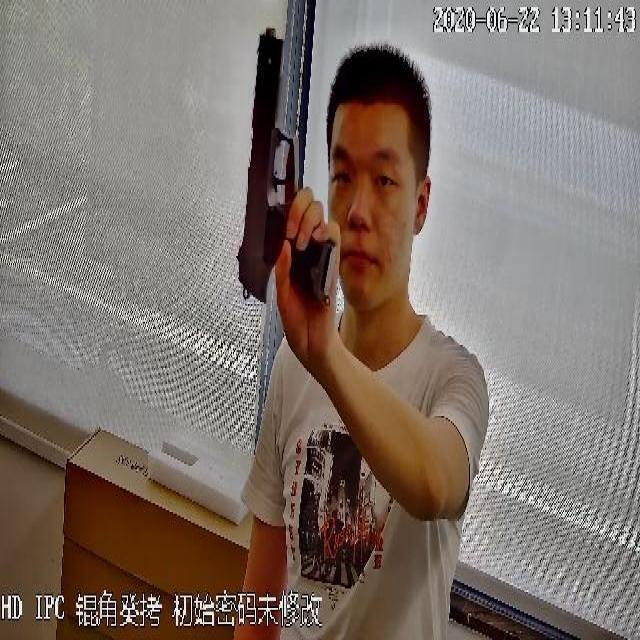pistol: (239, 25, 337, 319)
